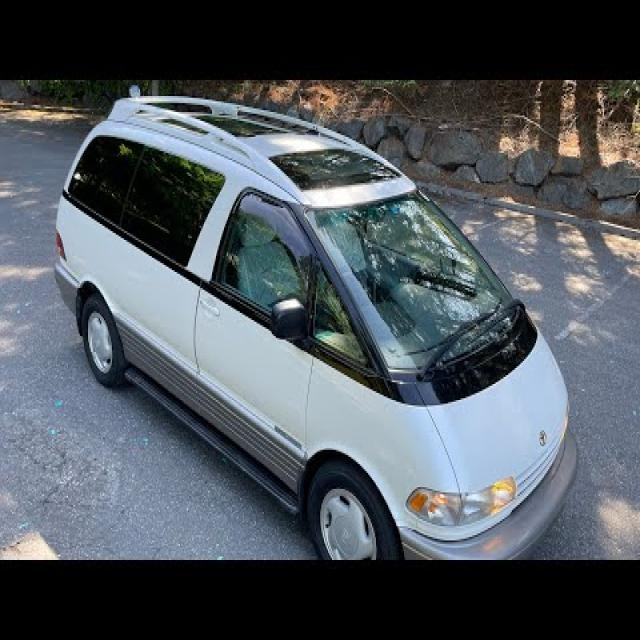Van: (52, 94, 575, 555)
